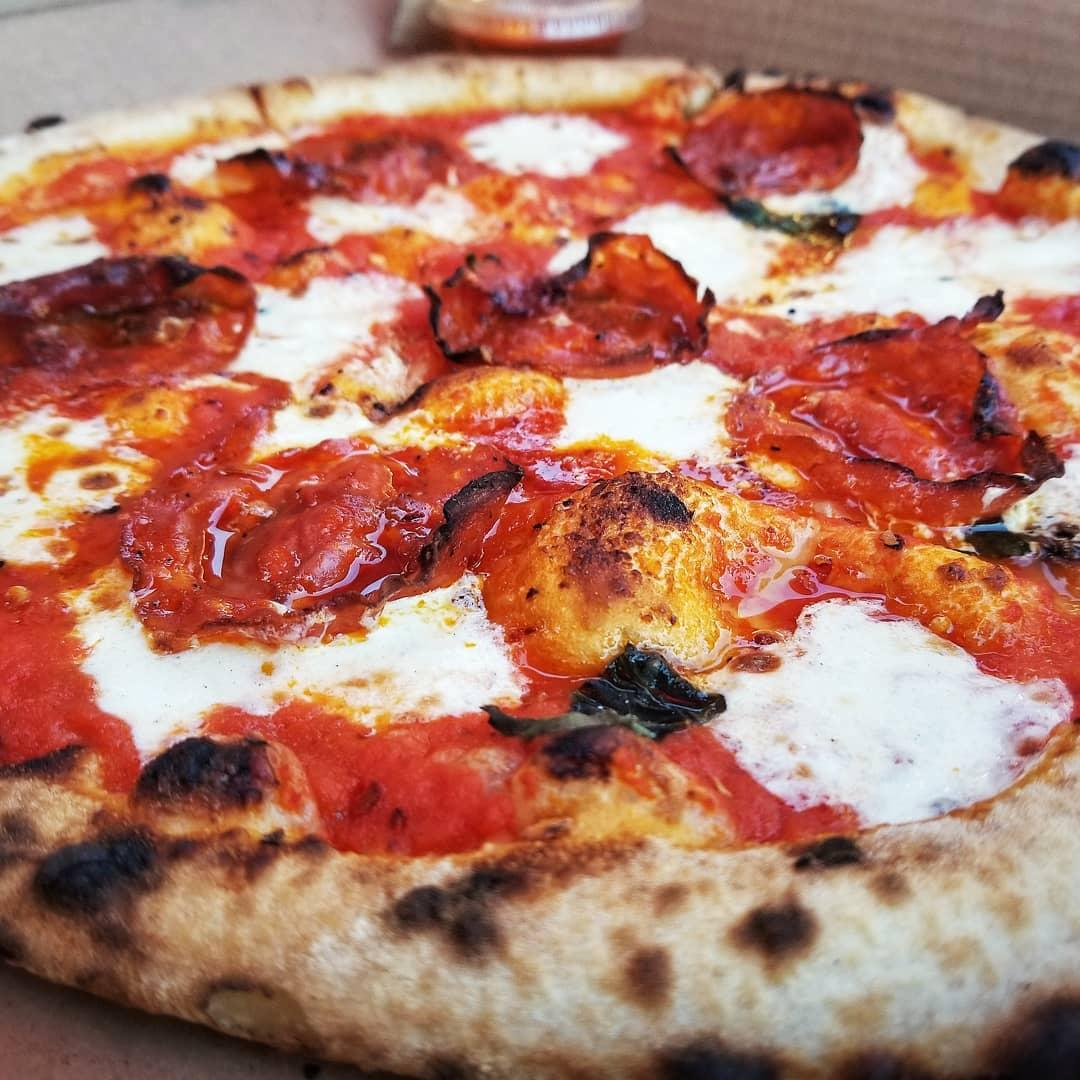Cheese: (79, 589, 500, 724), (741, 609, 1028, 797), (749, 233, 1080, 301), (0, 404, 115, 577), (557, 367, 738, 468), (635, 211, 785, 300), (243, 283, 398, 366), (473, 119, 624, 182), (317, 187, 482, 242), (0, 213, 80, 281)
Pepperoni: (157, 446, 498, 609), (405, 229, 712, 380), (747, 315, 1014, 480), (9, 251, 256, 402), (655, 85, 869, 202), (223, 133, 458, 206)
Pizza: (0, 55, 1080, 1080)
